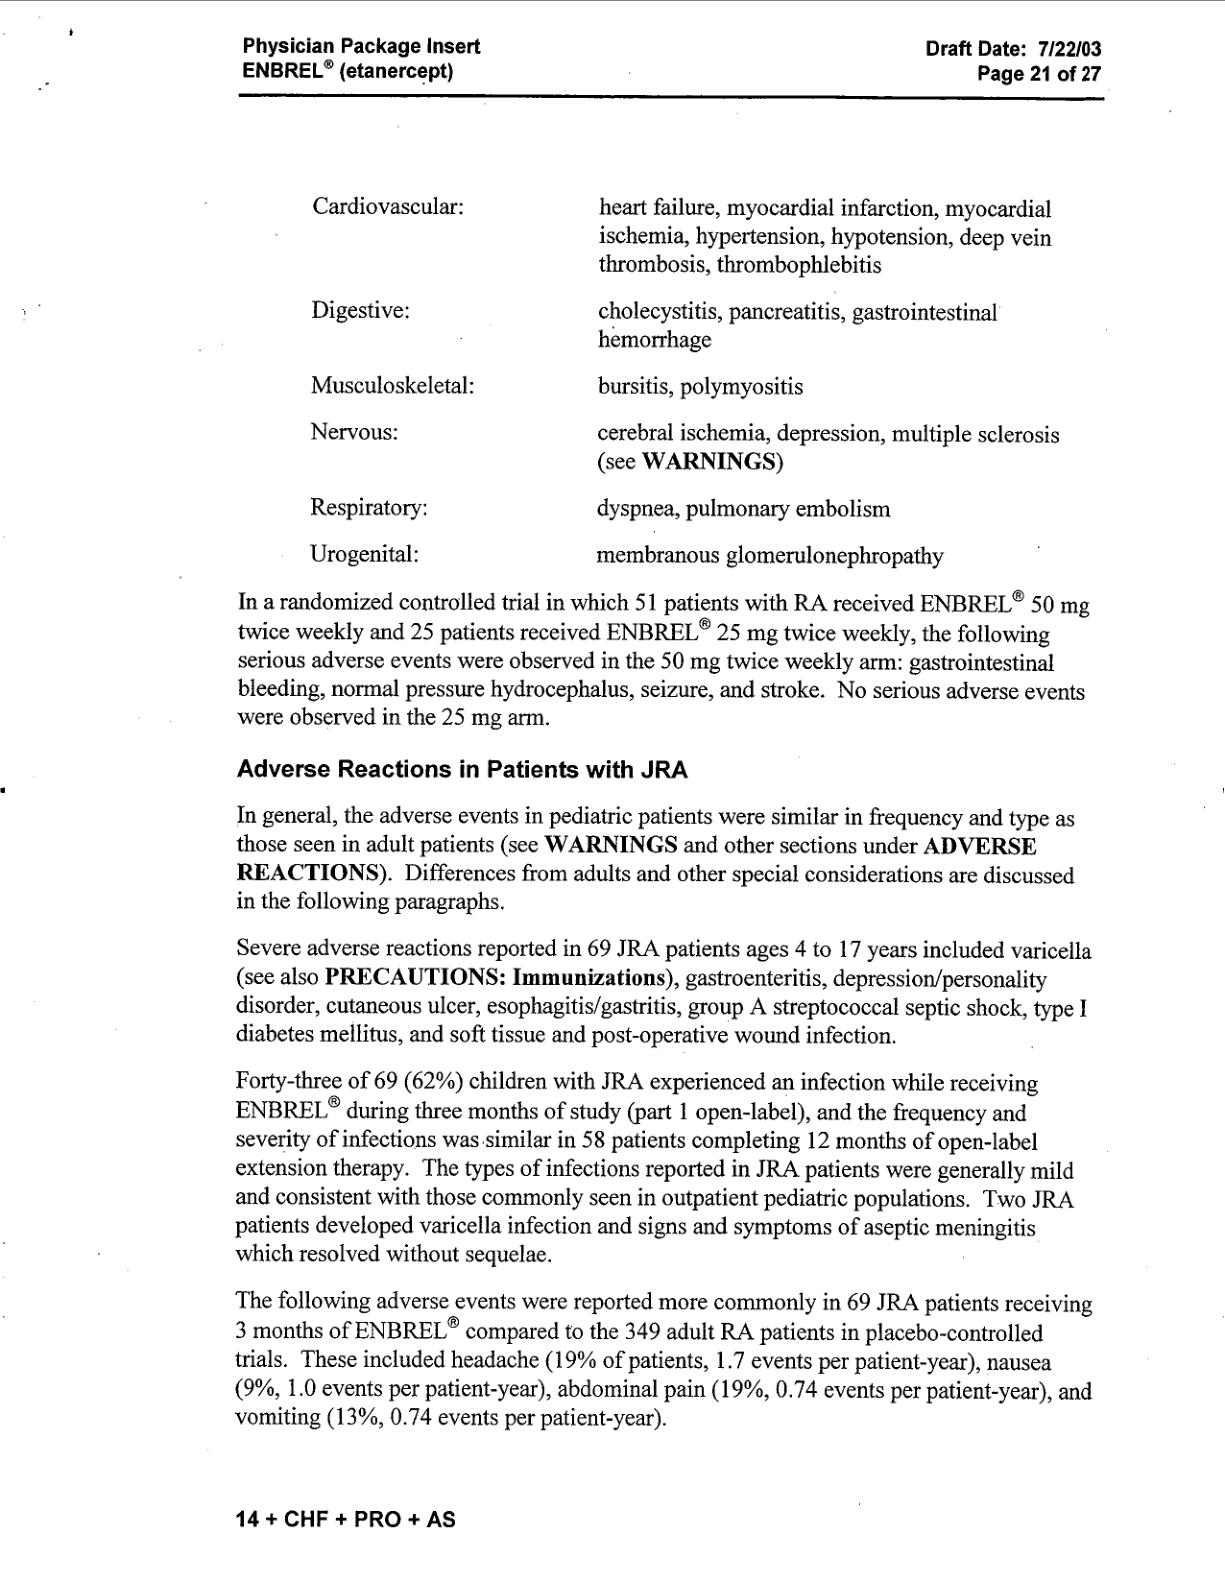nolines: (309, 193, 1062, 570)
